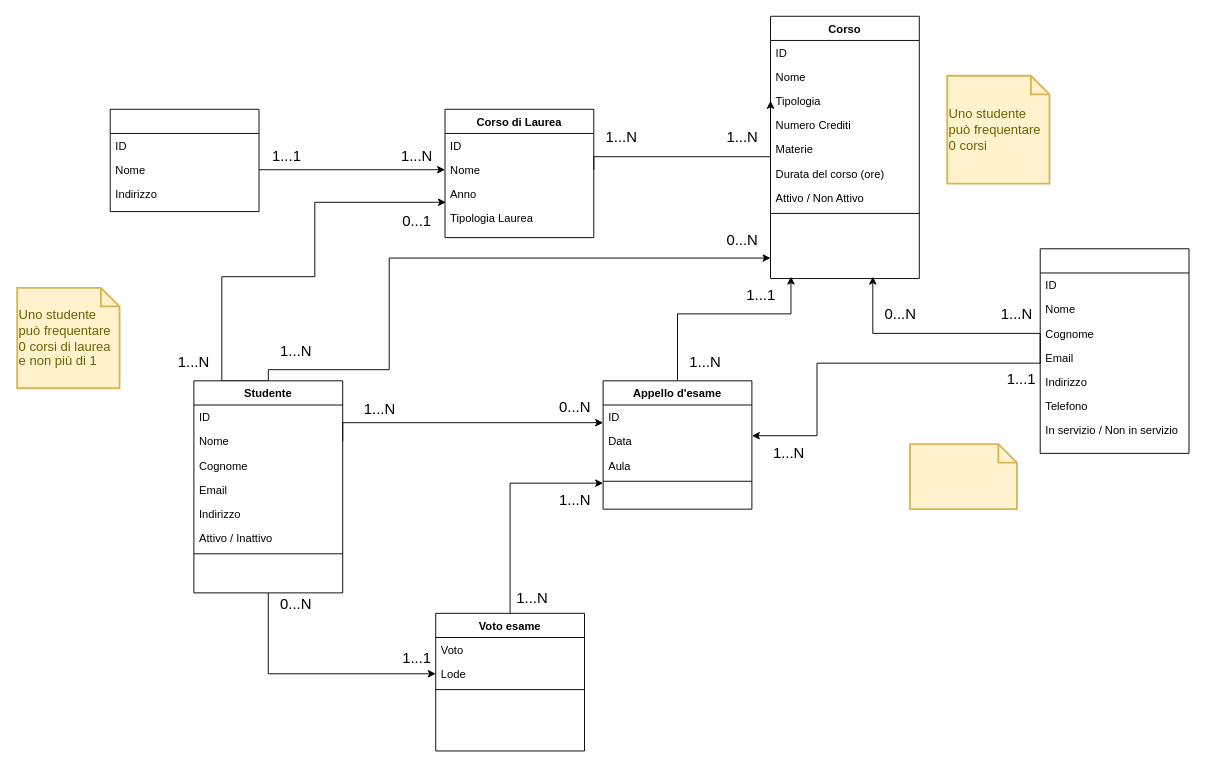
The diagram is 1205 pixels wide and 767 high, and some of its shapes have lost their labels. Here are the shapes that lost their labels. From the top down, the box of each, then its label:
(109, 108, 259, 212): Dipartimento
(1039, 248, 1189, 453): Insegnante
(909, 443, 1017, 510): Un insegnante può tenere 0 corsi
